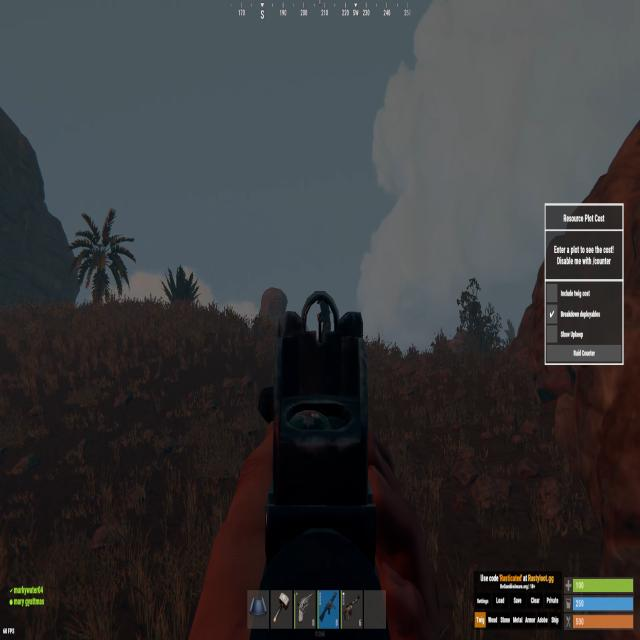Player: (316, 290, 332, 342)
